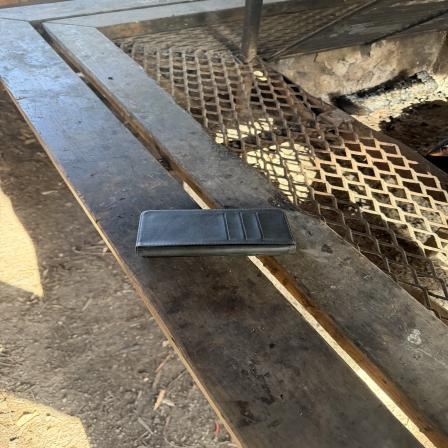phone: (137, 209, 298, 256)
